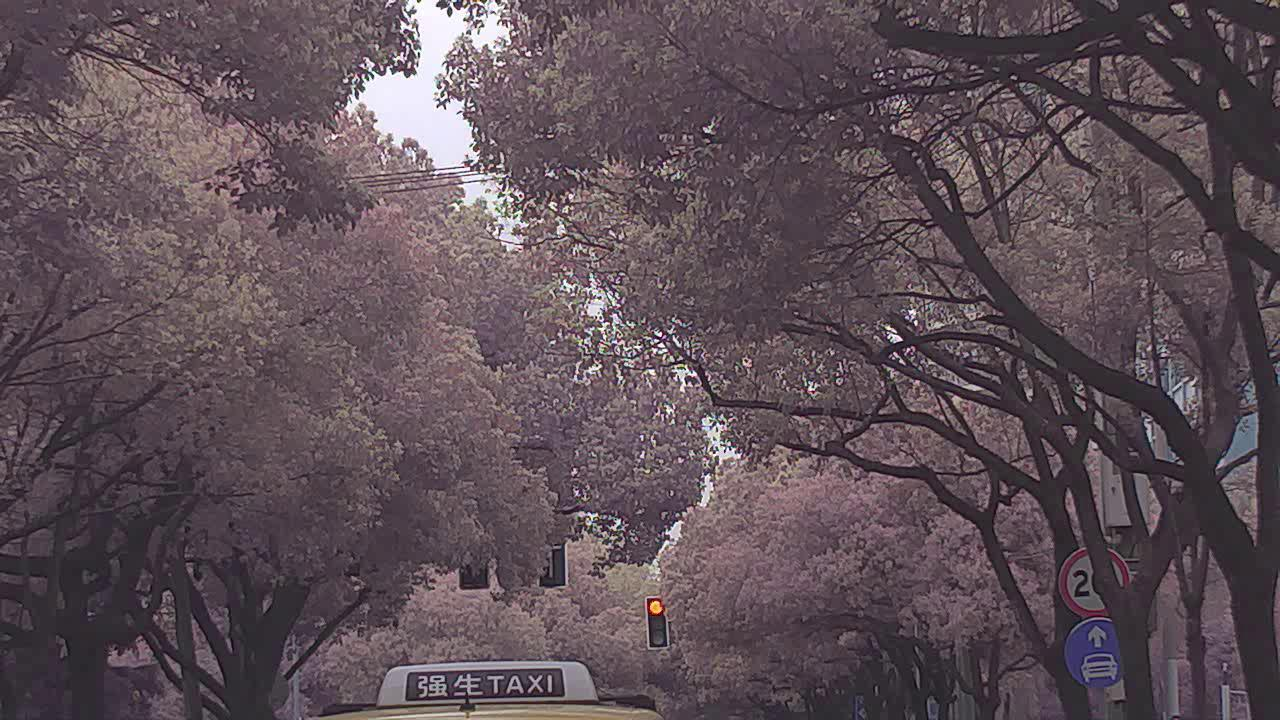traffic_light: (649, 595, 667, 643)
